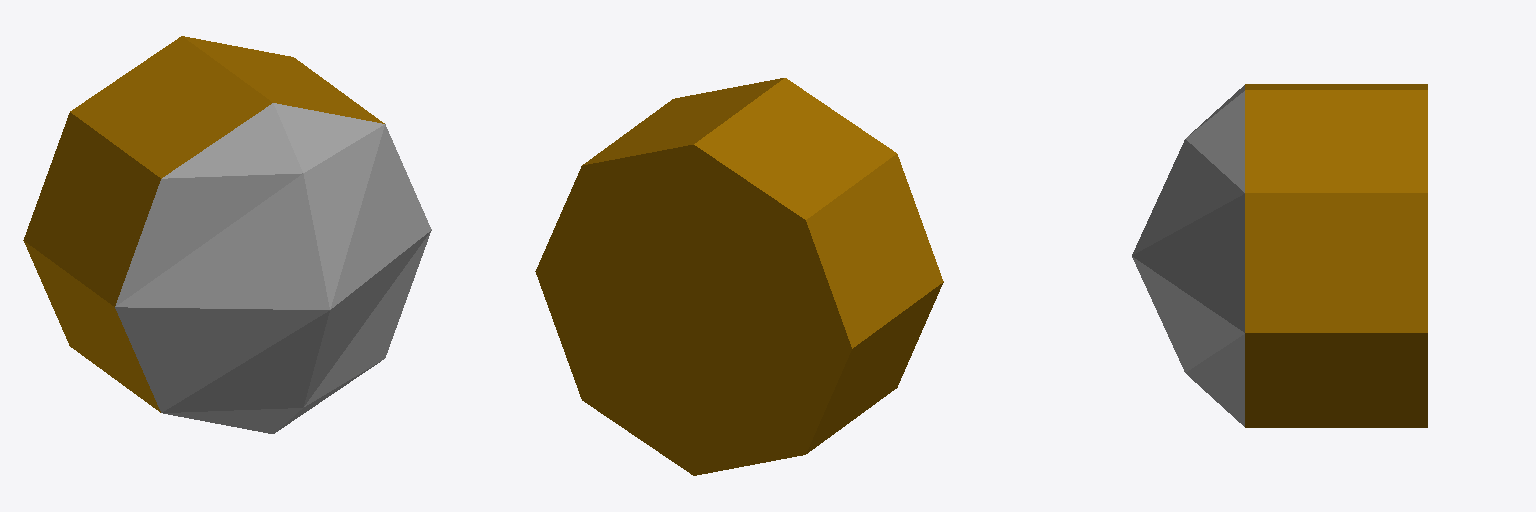
Rendered from spherflat.obj.
3 renders of one model, left to right at view 1: azimuth 30°, elevation 25°; view 2: azimuth 150°, elevation 25°; view 3: azimuth 270°, elevation 25°, orthographic.
Parts seen in each view (by area): view 1: Sphere; view 2: Sphere; view 3: Sphere.
Boxes of the visible parts, x1=… form: Sphere: x1=23, y1=36, x2=431, y2=433; Sphere: x1=535, y1=78, x2=943, y2=475; Sphere: x1=1132, y1=84, x2=1427, y2=427.
Bounding box in the file's own units: 2 × 2 × 1.62.